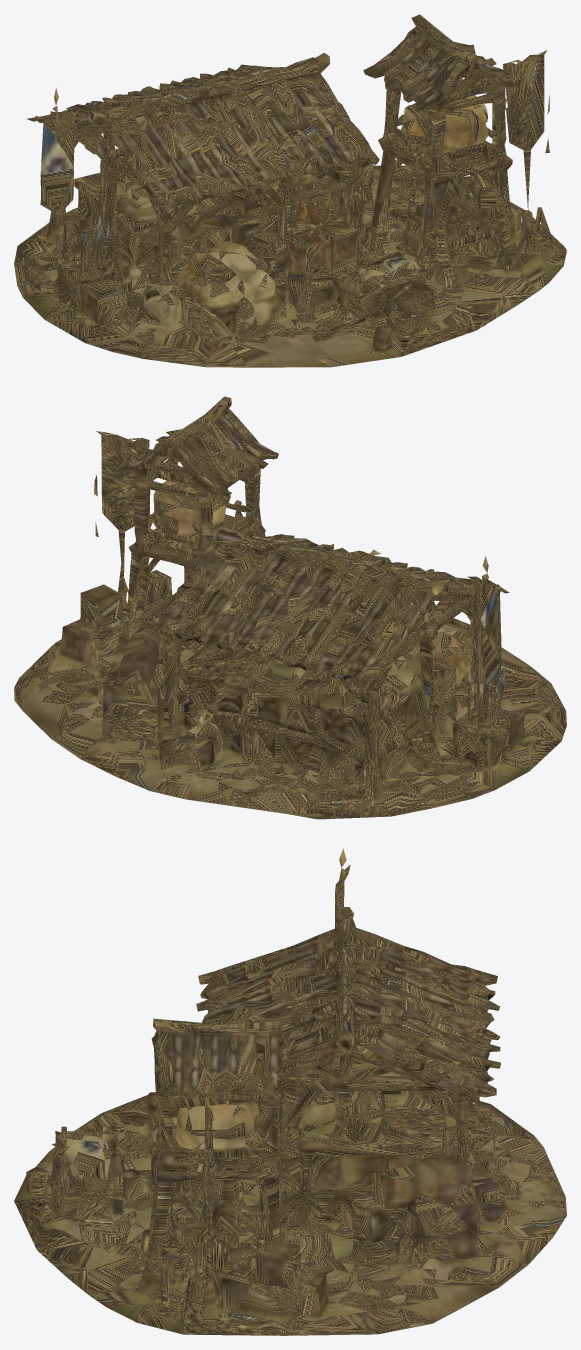
Rendered from bq_carpentry.lod.glb.
3 renders of one model, top to bottom at view 1: azimuth 30°, elevation 25°; view 2: azimuth 150°, elevation 25°; view 3: azimuth 270°, elevation 25°, orthographic. The views are drawn at different scales.
Size of the model in its own units: 1.89 by 0.8676 by 1.69.
1 material, 1 textured.
